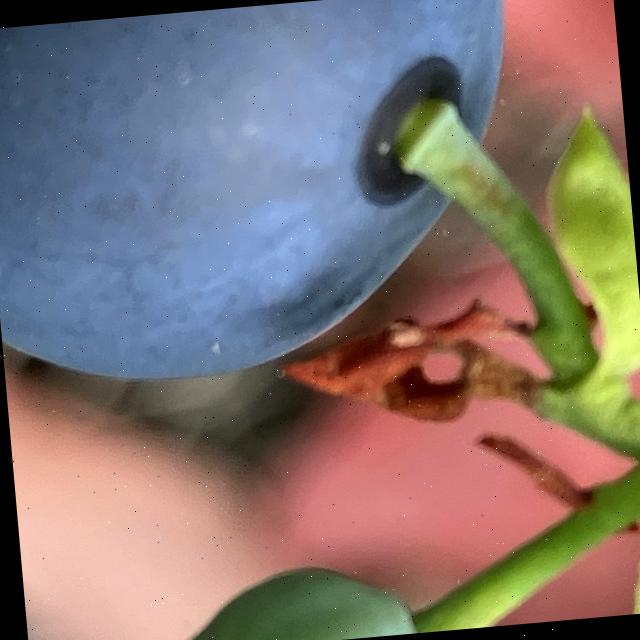Blueberries: (0, 0, 543, 419)
